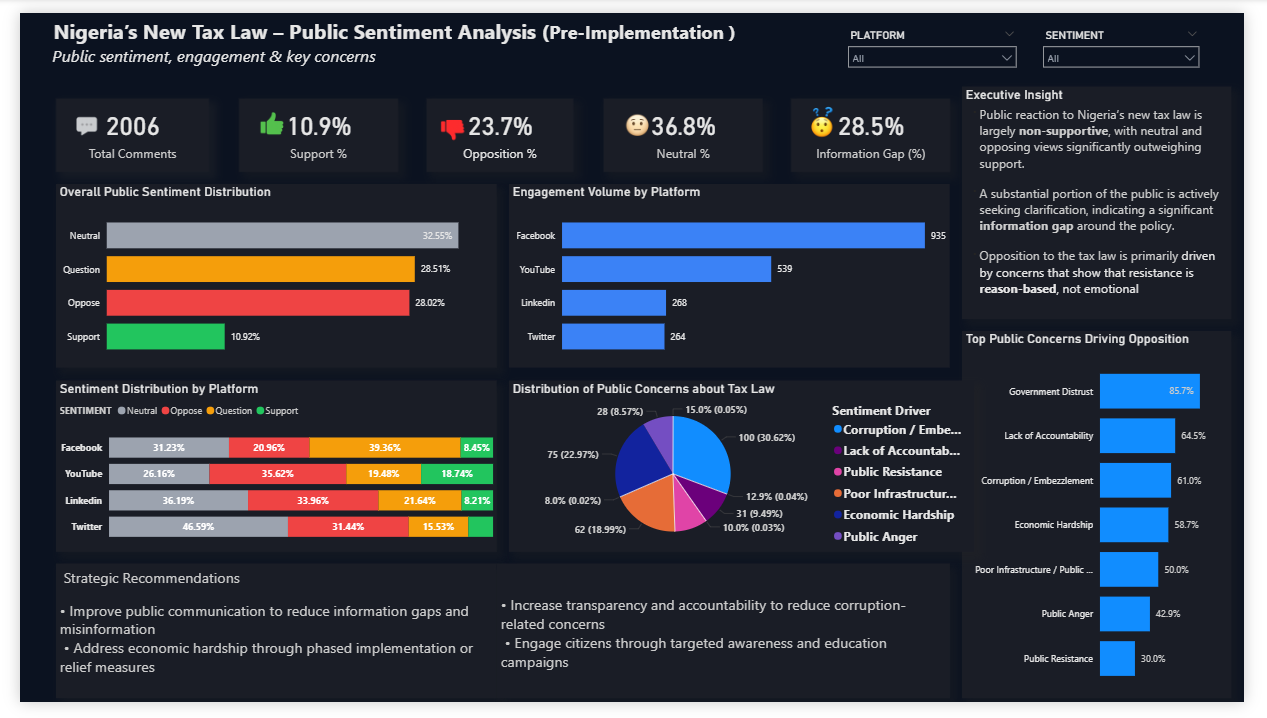

Layout of this report page (visuals, bound fields, positions):
{"tool":"powerbi","page":{"name":"Page 2","canvas":[1280,860],"ordinal":1},"visuals":[{"type":"shape","box":[432,144,480,288],"z":0},{"type":"shape","box":[928,48,352,96],"z":1000},{"type":"shape","box":[16,432,624,288],"z":2000},{"type":"shape","box":[192,0,1088,48],"z":3000},{"type":"textbox","box":[192,0,1056,48],"z":4000},{"type":"shape","box":[16,144,416,288],"z":5000},{"type":"clusteredColumnChart","title":"Public Engagement by Platform","fields":{"Category":["Tax_data.PLATFORM"],"Y":["Measures Table.Total Comments"]},"box":[32,162,400,252],"z":6000},{"type":"shape","box":[912,144,368,288],"z":7000},{"type":"shape","box":[16,48,188,96],"z":8000,"group":"g2"},{"type":"clusteredColumnChart","title":"Overall Public Sentiment on Tax Law","fields":{"Y":["Measures Table.Total Comments"],"Category":["Tax_data.Reclassified Sentiment"]},"box":[928,162,320,252],"z":8000},{"type":"hundredPercentStackedBarChart","title":"Public Sentiment Distribution Across Platforms","fields":{"Category":["Tax_data.PLATFORM"],"Y":["Measures Table.Total Comments"],"Series":["Tax_data.Reclassified Sentiment"]},"box":[32,464,576,240],"z":9000},{"type":"group","id":"g1","title":"Group 1","box":[640,432,640,288],"z":10000},{"type":"slicer","fields":{"Values":["Tax_data.PLATFORM"]},"box":[927.3,64,337.3,80],"z":11000},{"type":"shape","box":[192,48,192,96],"z":12000},{"type":"shape","box":[384,48,176,96],"z":13000},{"type":"shape","box":[640,432,640,288],"z":13000,"group":"g1"},{"type":"shape","box":[560,48,188,96],"z":14000},{"type":"shape","box":[736,48,208,96],"z":15000},{"type":"clusteredBarChart","title":"Top Public Concerns About Tax Law","fields":{"Y":["Measures Table.Total Comments"],"Category":["Tax_data.Enhanced Driver"]},"box":[448,162,448,270],"z":16000},{"type":"pieChart","title":"Distribution of Public Concerns about Tax Law","fields":{"Category":["Tax_data.Enhanced Driver"],"Y":["Measures Table.Total Comments"]},"box":[648,456,624,240],"z":17000},{"type":"group","id":"g2","title":"Group 3","box":[16,48,188,96],"z":18000},{"type":"card","fields":{"Values":["Measures Table.% Support"]},"box":[208,48,160,96],"z":19000},{"type":"card","fields":{"Values":["Measures Table.Total Comments"]},"box":[16,48,176,96],"z":19008,"group":"g2"},{"type":"card","fields":{"Values":["Measures Table.% Oppose"]},"box":[400,48,144,96],"z":20000},{"type":"card","fields":{"Values":["Measures Table.% Neutral("]},"box":[560,48,160,96],"z":21000},{"type":"card","fields":{"Values":["Measures Table.% Question"]},"box":[752,48,160,96],"z":22000},{"type":"image","box":[80,0,112,48],"z":23000},{"type":"image","box":[0,0,112,48],"z":24000},{"type":"shape","box":[24,716,1248,144],"z":24001},{"type":"textbox","box":[72,740,1152,120],"z":24002}]}

Visuals, with their boxes on the page's 1280x860 design canvas (x1, y1, x2, y2). These are canvas units, not pixel positions in the 1267x718 screenshot, which may show the page scaled, cropped or inside an application window:
shape: <region>432, 144, 912, 432</region>
shape: <region>928, 48, 1280, 144</region>
shape: <region>16, 432, 640, 720</region>
shape: <region>192, 0, 1280, 48</region>
textbox: <region>192, 0, 1248, 48</region>
shape: <region>16, 144, 432, 432</region>
"Public Engagement by Platform" clusteredColumnChart: <region>32, 162, 432, 414</region>
shape: <region>912, 144, 1280, 432</region>
shape: <region>16, 48, 204, 144</region>
"Overall Public Sentiment on Tax Law" clusteredColumnChart: <region>928, 162, 1248, 414</region>
"Public Sentiment Distribution Across Platforms" hundredPercentStackedBarChart: <region>32, 464, 608, 704</region>
"Group 1" group: <region>640, 432, 1280, 720</region>
slicer - Tax_data.PLATFORM: <region>927, 64, 1265, 144</region>
shape: <region>192, 48, 384, 144</region>
shape: <region>384, 48, 560, 144</region>
shape: <region>640, 432, 1280, 720</region>
shape: <region>560, 48, 748, 144</region>
shape: <region>736, 48, 944, 144</region>
"Top Public Concerns About Tax Law" clusteredBarChart: <region>448, 162, 896, 432</region>
"Distribution of Public Concerns about Tax Law" pieChart: <region>648, 456, 1272, 696</region>
"Group 3" group: <region>16, 48, 204, 144</region>
card - Measures Table.% Support: <region>208, 48, 368, 144</region>
card - Measures Table.Total Comments: <region>16, 48, 192, 144</region>
card - Measures Table.% Oppose: <region>400, 48, 544, 144</region>
card - Measures Table.% Neutral(: <region>560, 48, 720, 144</region>
card - Measures Table.% Question: <region>752, 48, 912, 144</region>
image: <region>80, 0, 192, 48</region>
image: <region>0, 0, 112, 48</region>
shape: <region>24, 716, 1272, 860</region>
textbox: <region>72, 740, 1224, 860</region>
